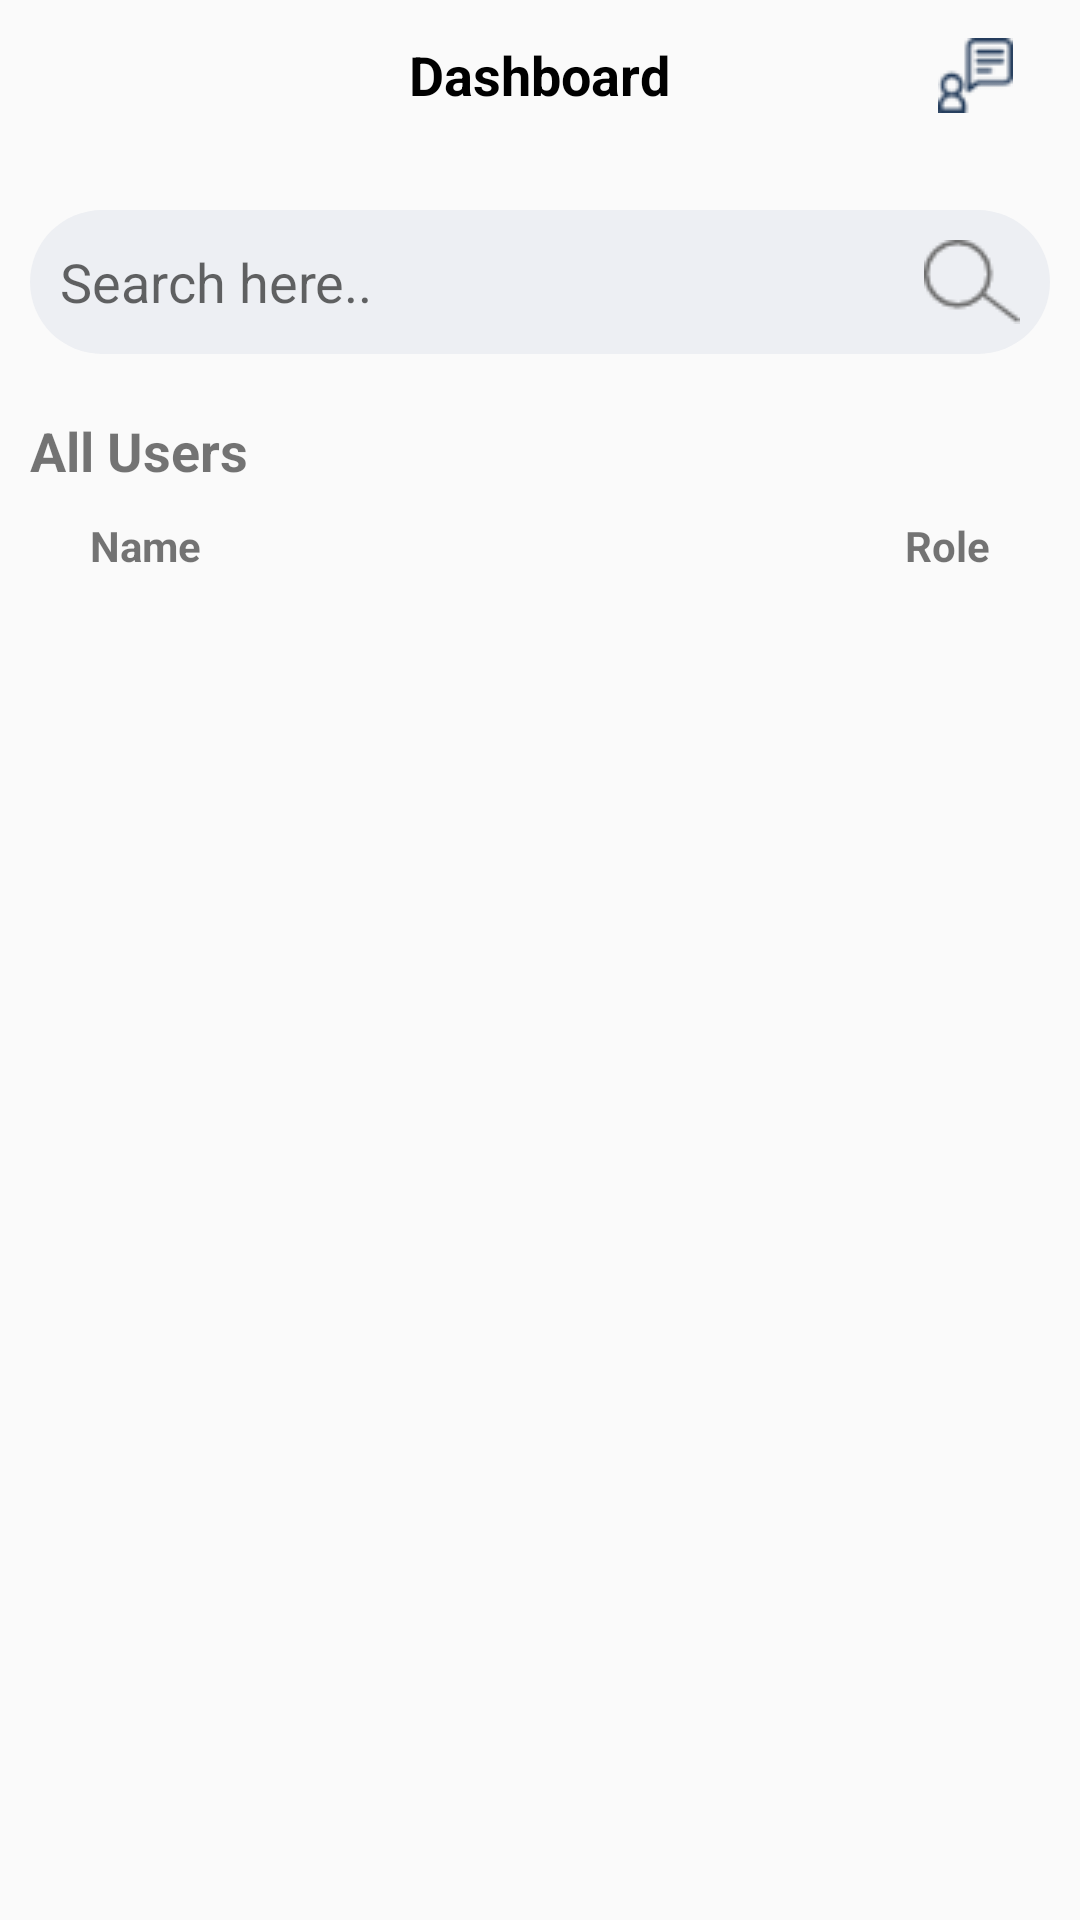

Locate icon controls on the screen. Image size 1080 x 1920, boxes as [x1, y1, x2, y2].
requestfordash: [938, 38, 1013, 113]
